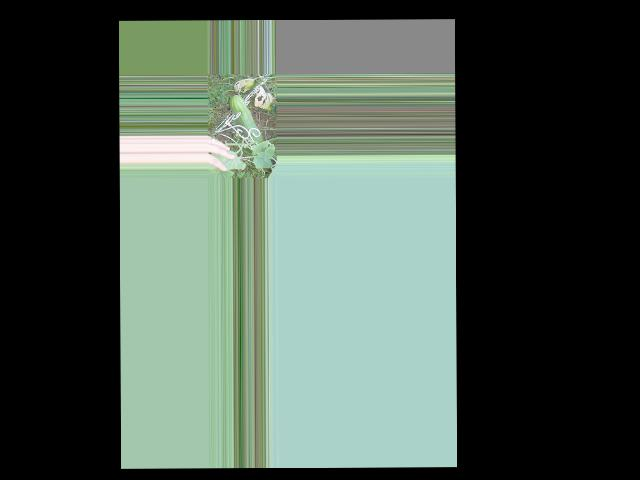cucumber: (229, 95, 262, 144)
